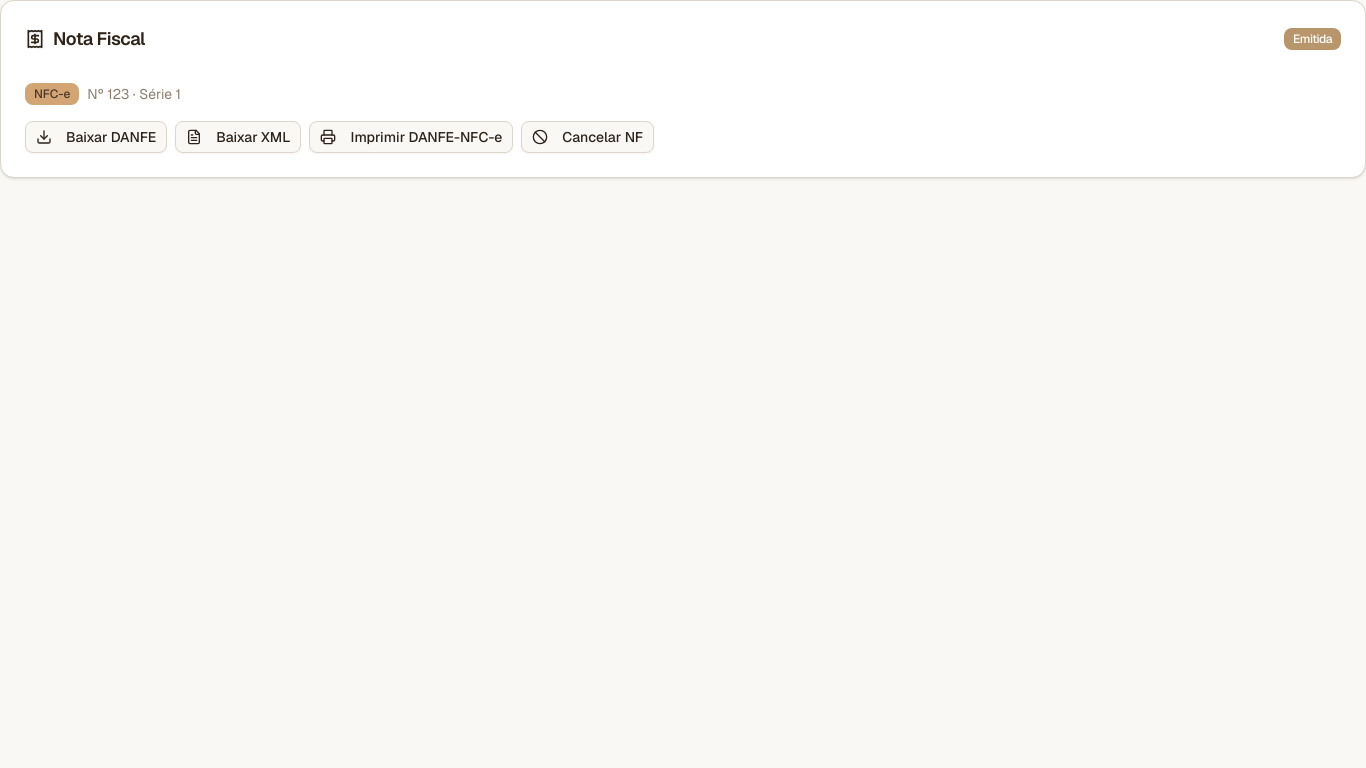
Test: NfSection cancellation › opens the confirm dialog and gates confirm on a 15-char justificativa
Click the button "Cancelar NF". click: click(588, 137)
box: [521, 121, 654, 153]
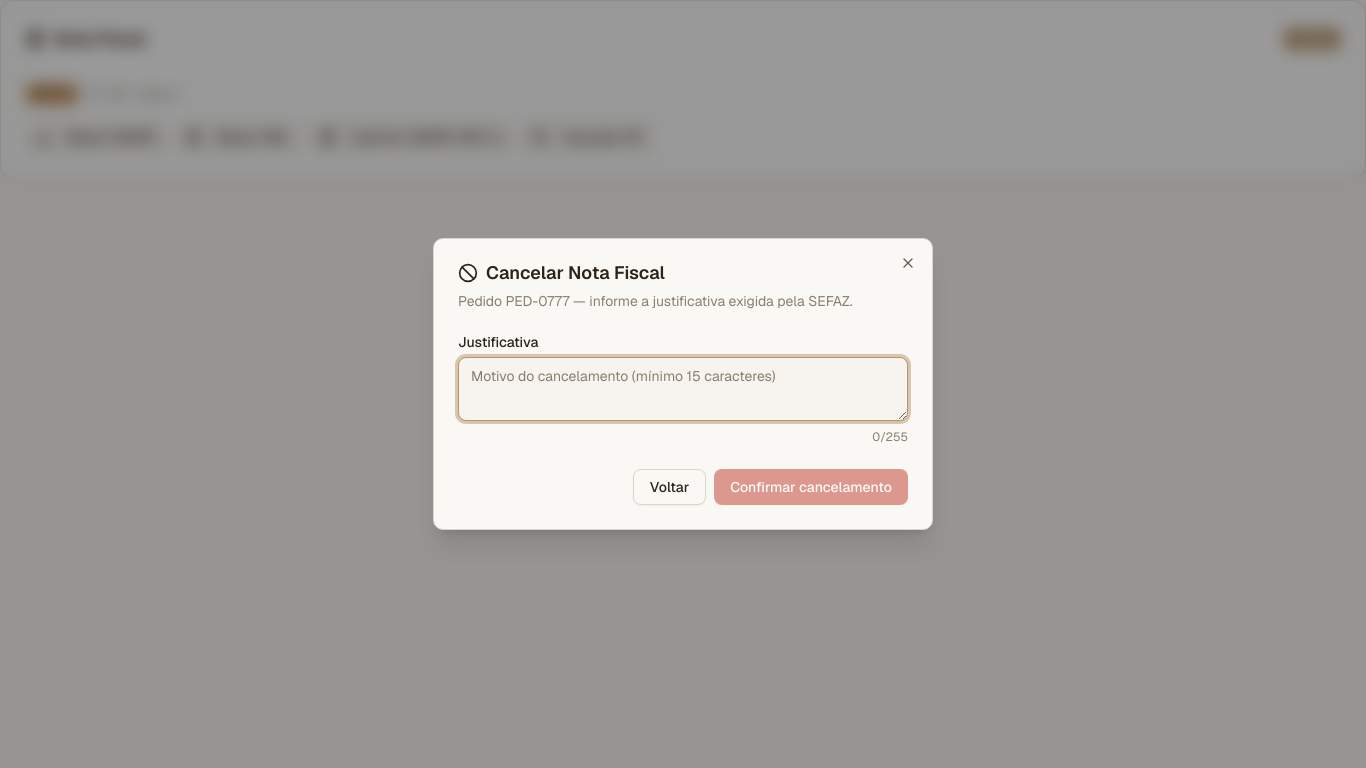
Now the button "Confirmar cancelamento" is disabled, box [714, 469, 908, 505]
Type "curto" into the text box labelled "Justificativa". click: (683, 389)
box: [458, 357, 908, 421]
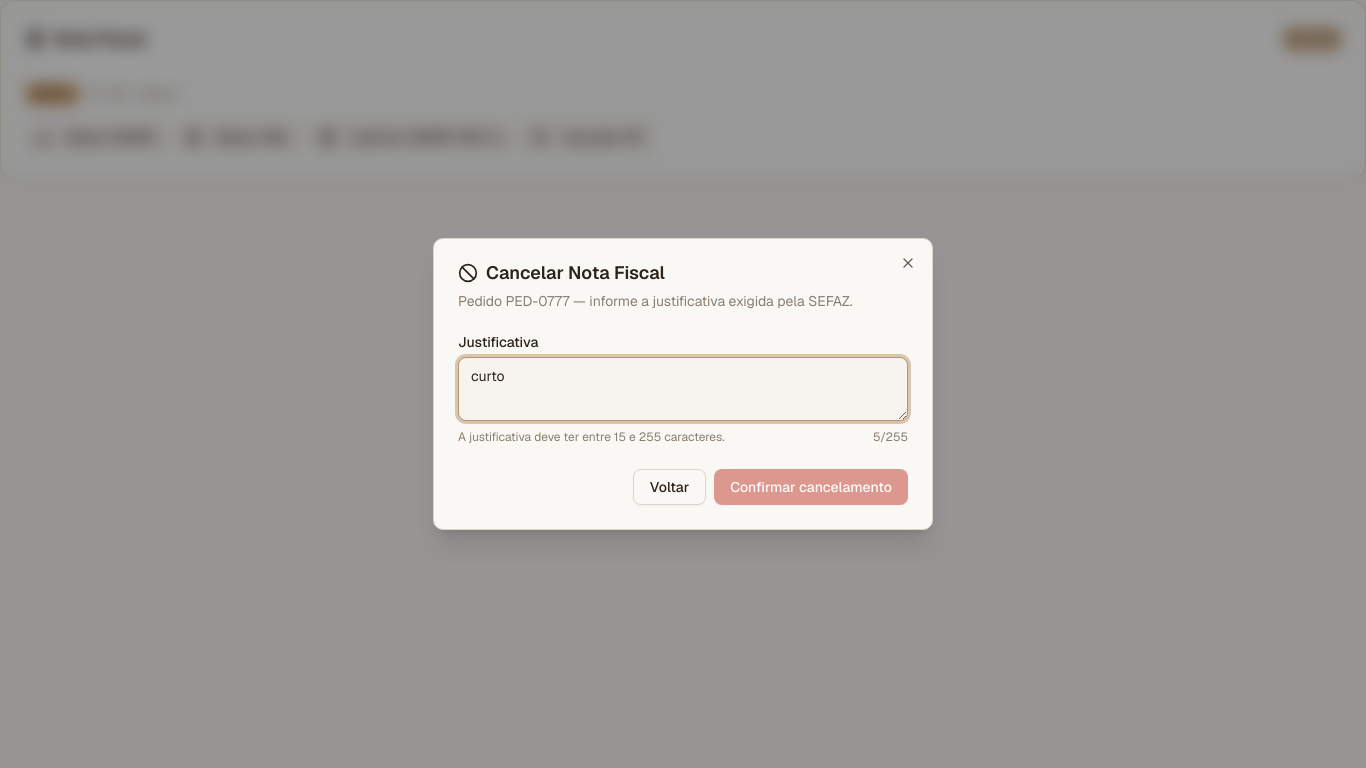
Now the button "Confirmar cancelamento" is disabled, box [714, 469, 908, 505]
Now the text "A justificativa deve ter entre 15 e 255 caracteres." is shown, box [458, 429, 725, 445]
Replace the text in the text box labelled "Justificativa" with "Cancelamento por erro de digitação no pedido". click: (683, 389)
box: [458, 357, 908, 421]
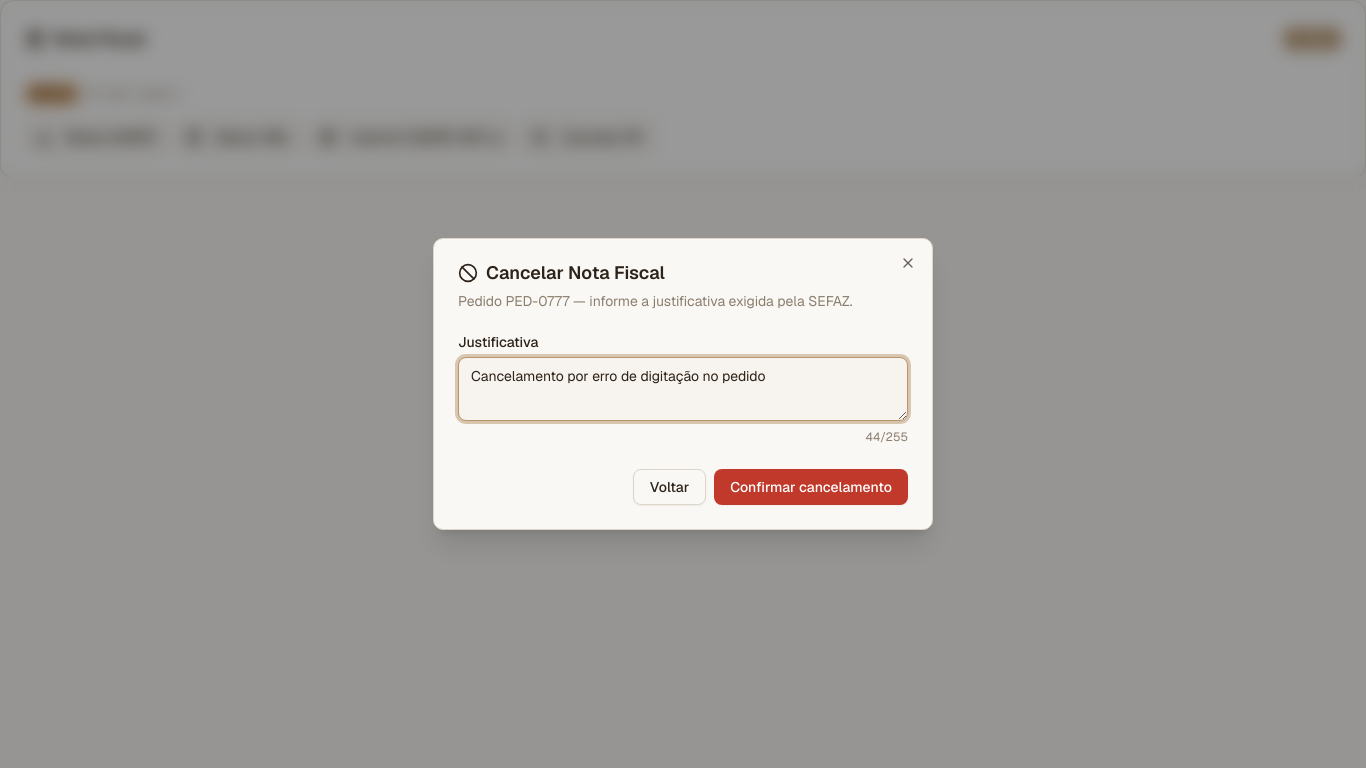
Now the button "Confirmar cancelamento" is enabled, box [714, 469, 908, 505]
